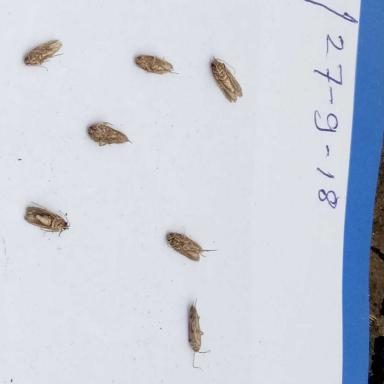pbw: (165, 226, 216, 261), (24, 200, 70, 237), (188, 297, 210, 371), (210, 55, 242, 102), (23, 39, 63, 71), (87, 121, 132, 146), (135, 54, 178, 74)
